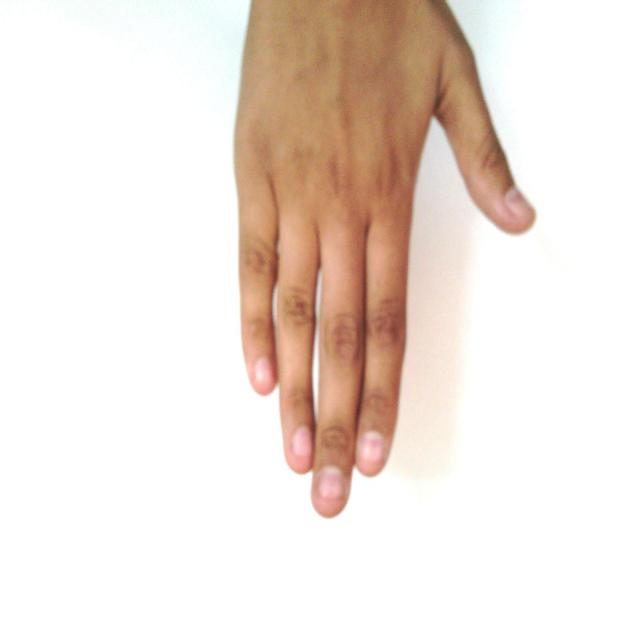others: (217, 1, 541, 534)
